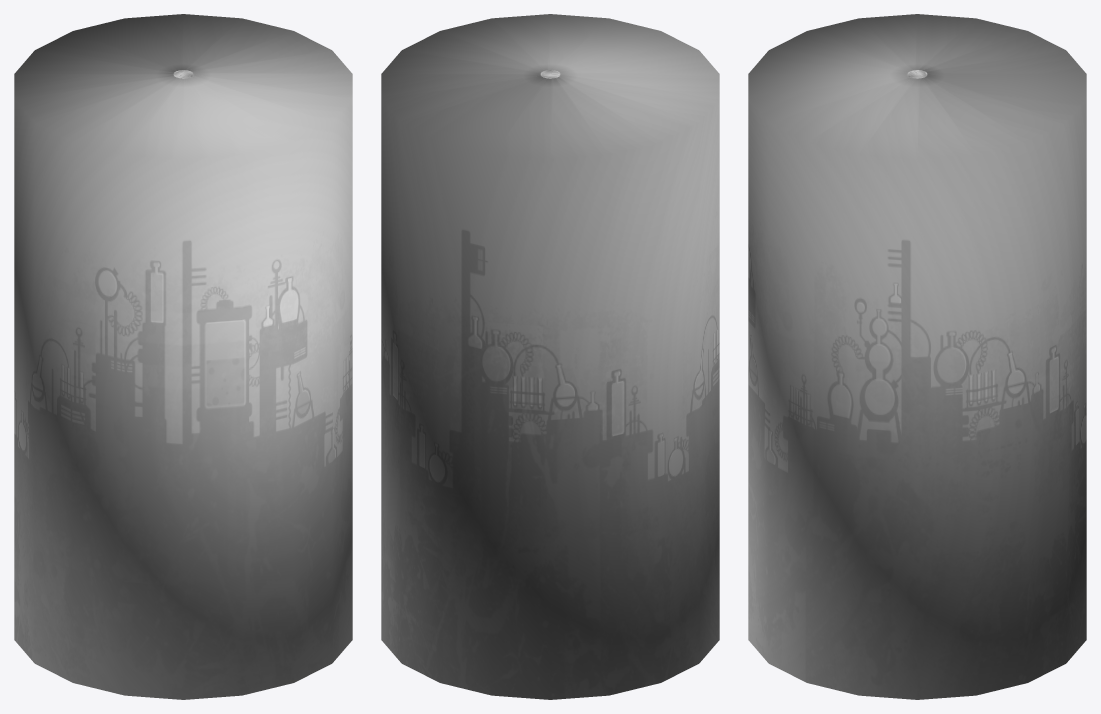
The model's file is background_cylinder.FBX.
3 renders of one model, left to right at view 1: azimuth 30°, elevation 25°; view 2: azimuth 150°, elevation 25°; view 3: azimuth 270°, elevation 25°, orthographic.
Parts seen in each view (by area): view 1: background_cylinder; view 2: background_cylinder; view 3: background_cylinder.
Boxes of the visible parts, bbox=[...] form: background_cylinder: bbox=[14, 14, 352, 699]; background_cylinder: bbox=[381, 14, 719, 699]; background_cylinder: bbox=[748, 14, 1086, 699].
Bounding box in the file's own units: 33.48 × 32.97 × 60.8.
1 material, 1 textured.
